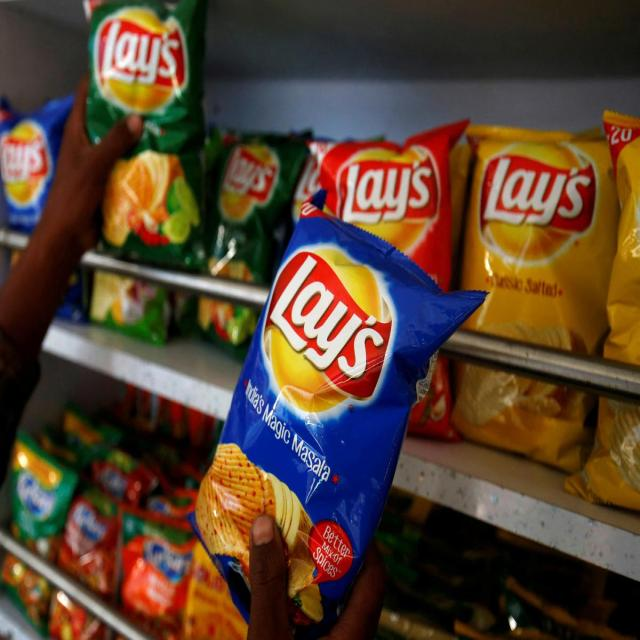lays: (16, 11, 622, 611), (227, 151, 435, 612)
